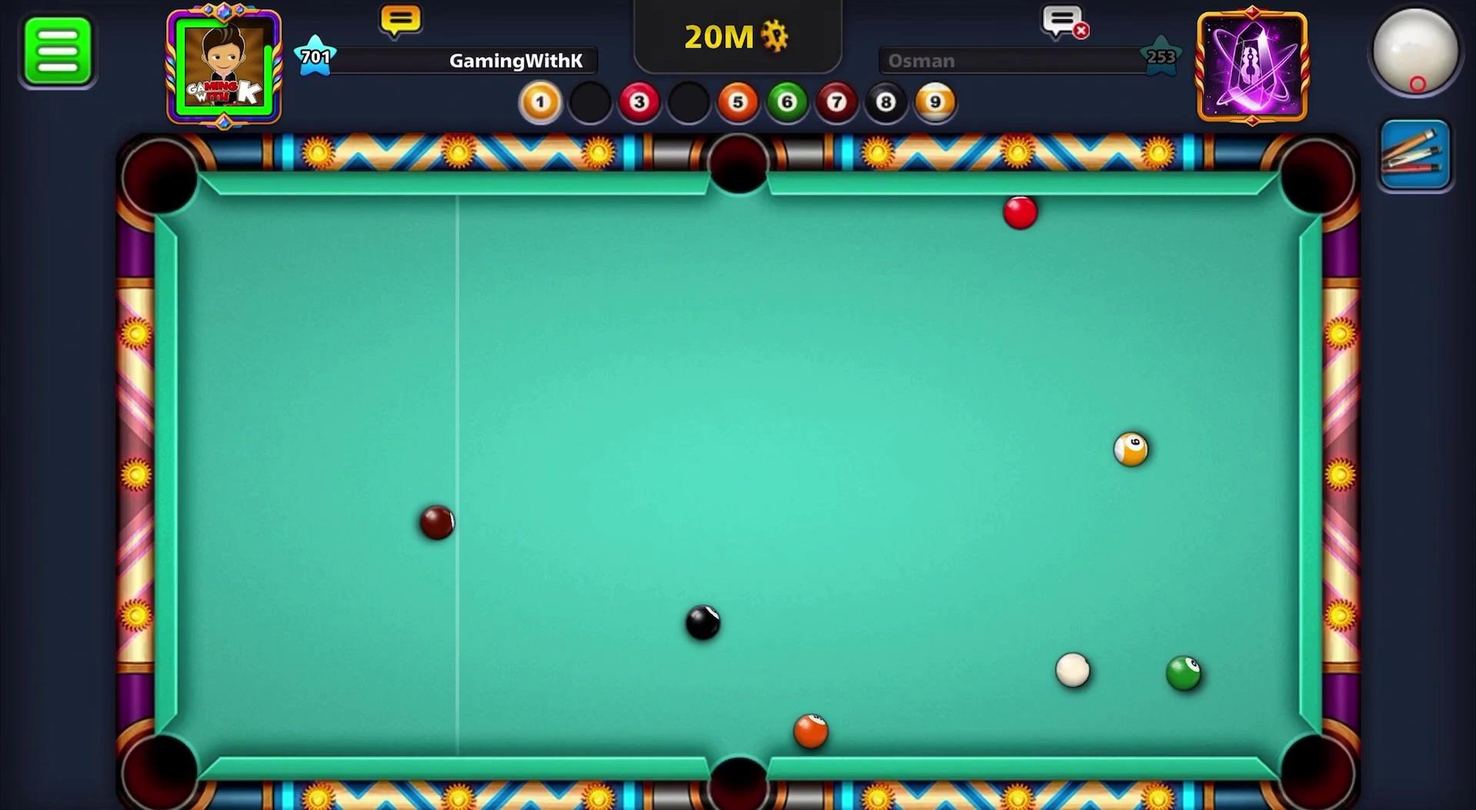Ball: (675, 600, 730, 647), (1112, 421, 1154, 476), (411, 500, 461, 546), (785, 709, 834, 754), (998, 194, 1044, 234), (1166, 652, 1208, 692)
Hole: (107, 129, 213, 229), (1268, 132, 1364, 231), (1267, 715, 1362, 808), (114, 725, 206, 809), (688, 737, 781, 808), (699, 125, 777, 204)
Play_Area: (178, 194, 1296, 762)
Spin: (1347, 0, 1475, 117)
White: (1051, 648, 1095, 687)
